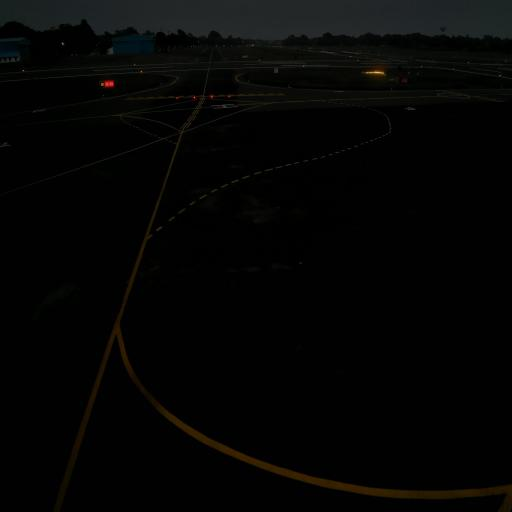on: (175, 95, 179, 102), (193, 94, 197, 100), (210, 94, 214, 99), (227, 94, 231, 99)
